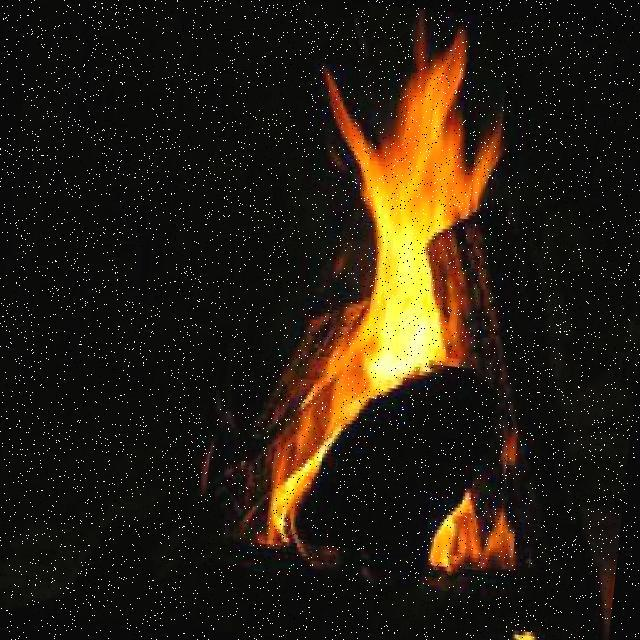Fire: (225, 34, 531, 550)
